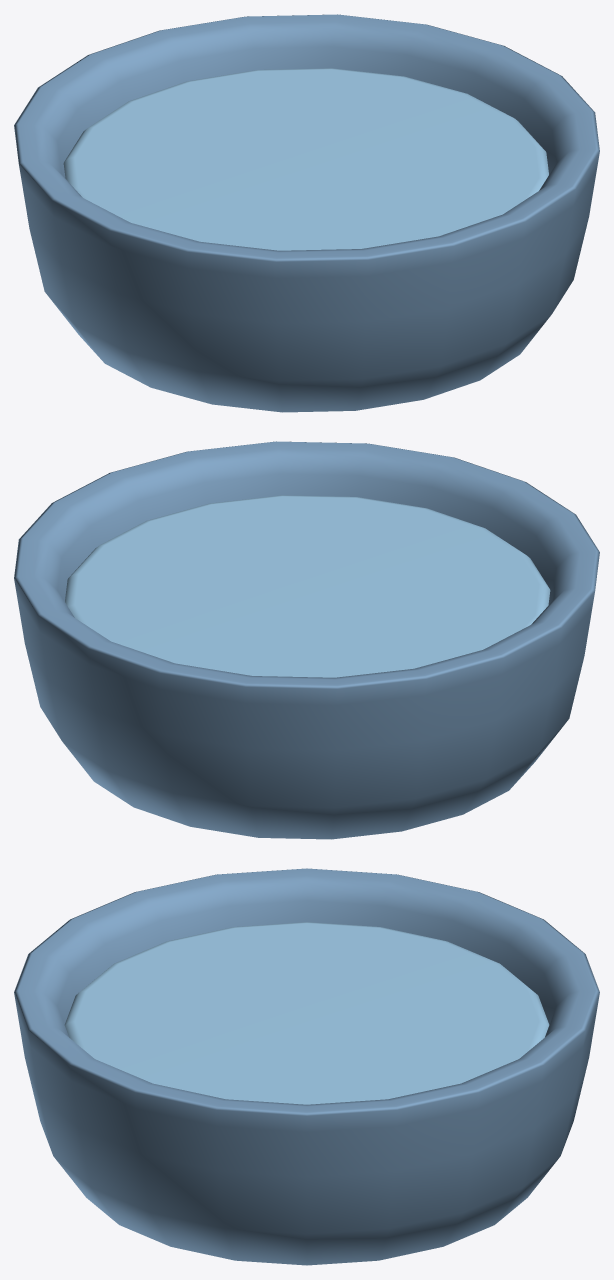
The model's file is petroom_water_bowl.glb.
3 views of the same model, one above another, from view 1: azimuth 30°, elevation 25°; view 2: azimuth 150°, elevation 25°; view 3: azimuth 270°, elevation 25° (orthographic).
Parts seen in each view (by area): view 1: petroom_water_bowl_mesh; view 2: petroom_water_bowl_mesh; view 3: petroom_water_bowl_mesh.
Boxes of the visible parts, left/top/right/bottom form: petroom_water_bowl_mesh: left=14, top=14, right=599, bottom=412; petroom_water_bowl_mesh: left=14, top=441, right=599, bottom=839; petroom_water_bowl_mesh: left=14, top=868, right=599, bottom=1265.
Size of the model in its own units: 0.1818 by 0.0646 by 0.1818.
